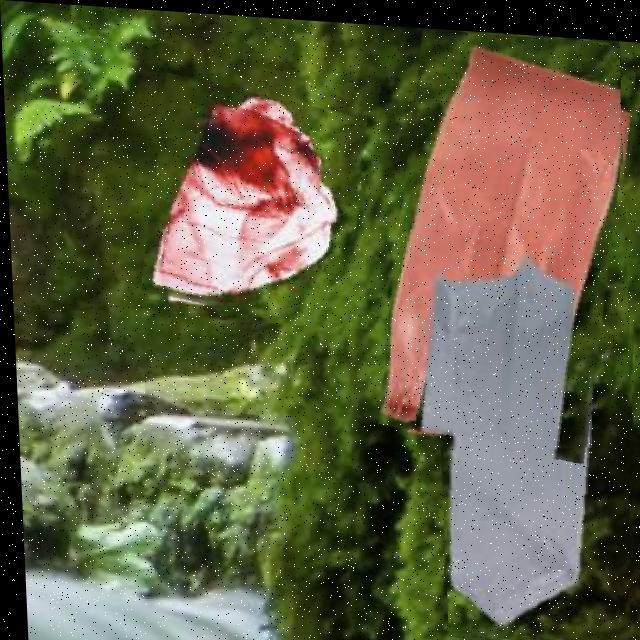litter: (376, 22, 634, 458), (431, 282, 638, 640), (138, 76, 366, 325)
